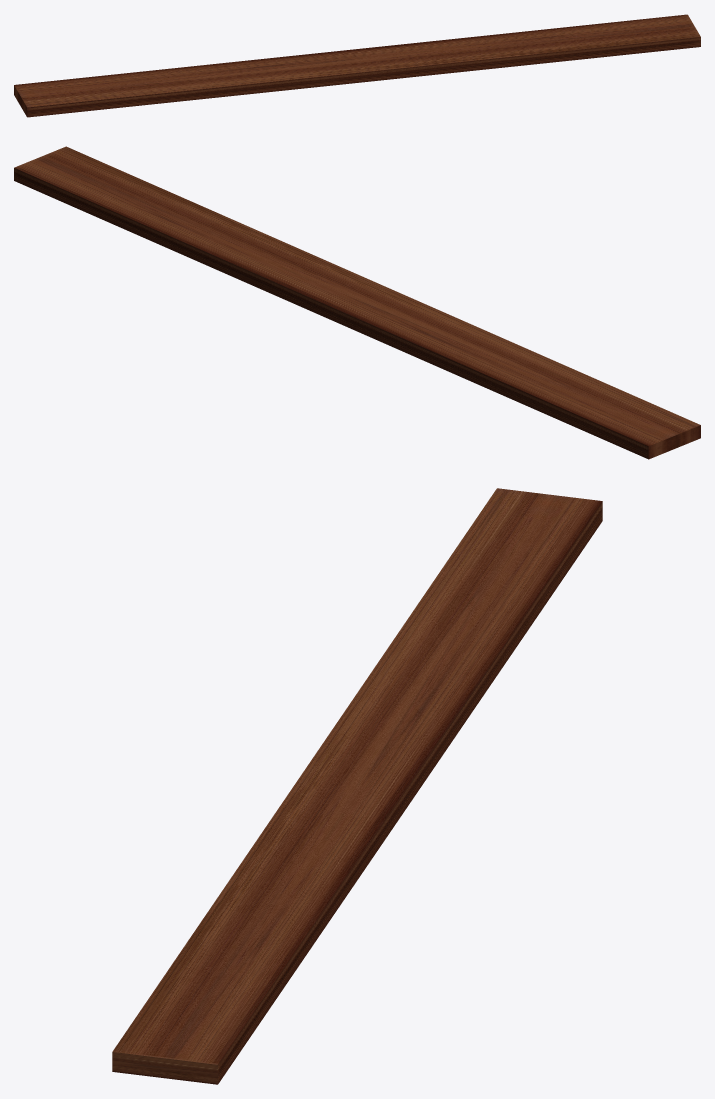
Rendered from Plank.fbx.
3 renders of one model, top to bottom at view 1: azimuth 30°, elevation 25°; view 2: azimuth 150°, elevation 25°; view 3: azimuth 270°, elevation 25°, orthographic. The views are drawn at different scales.
Visible parts, largest first — view 1: Plank; view 2: Plank; view 3: Plank.
Part boxes in pixels (box(x1,y1,x2,y2)): Plank: box(14, 14, 700, 117); Plank: box(14, 146, 700, 459); Plank: box(112, 488, 602, 1084).
Size of the model in its own units: 12.41 by 0.2 by 4.46.
1 material, 1 textured.
